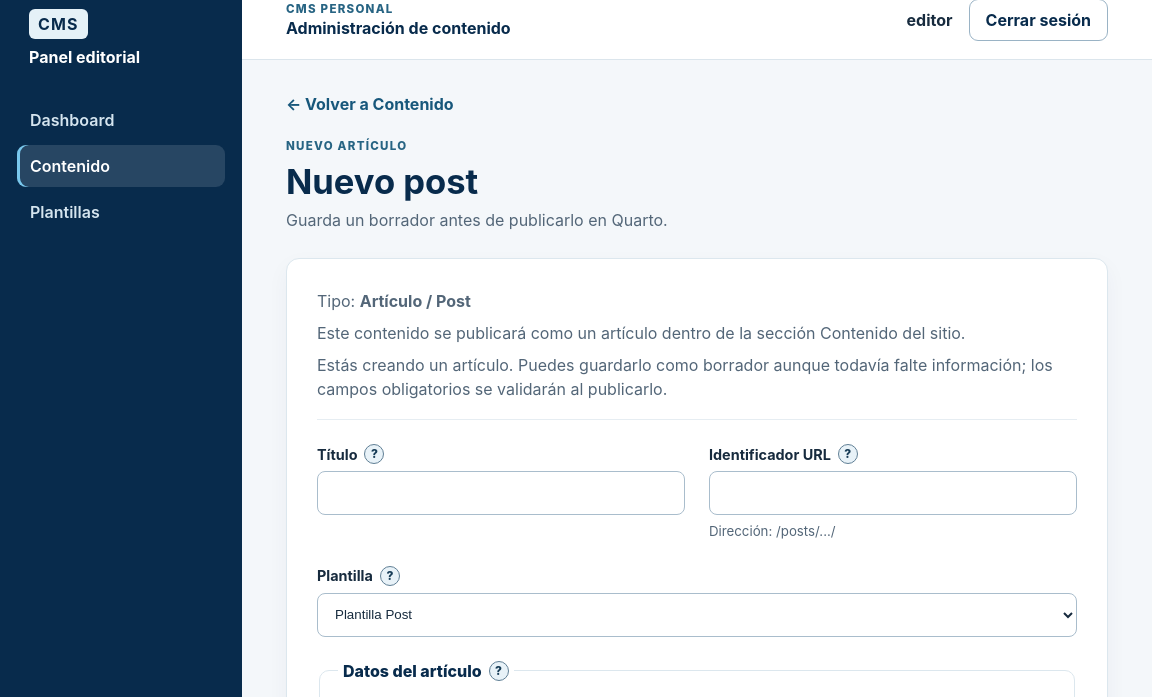
Scenario: Creación y edición › permite guardar borrador sin metadata obligatoria y valida slug inválido
Type "Título" into the field labelled "Título" at (501, 493), box [317,471,685,515]
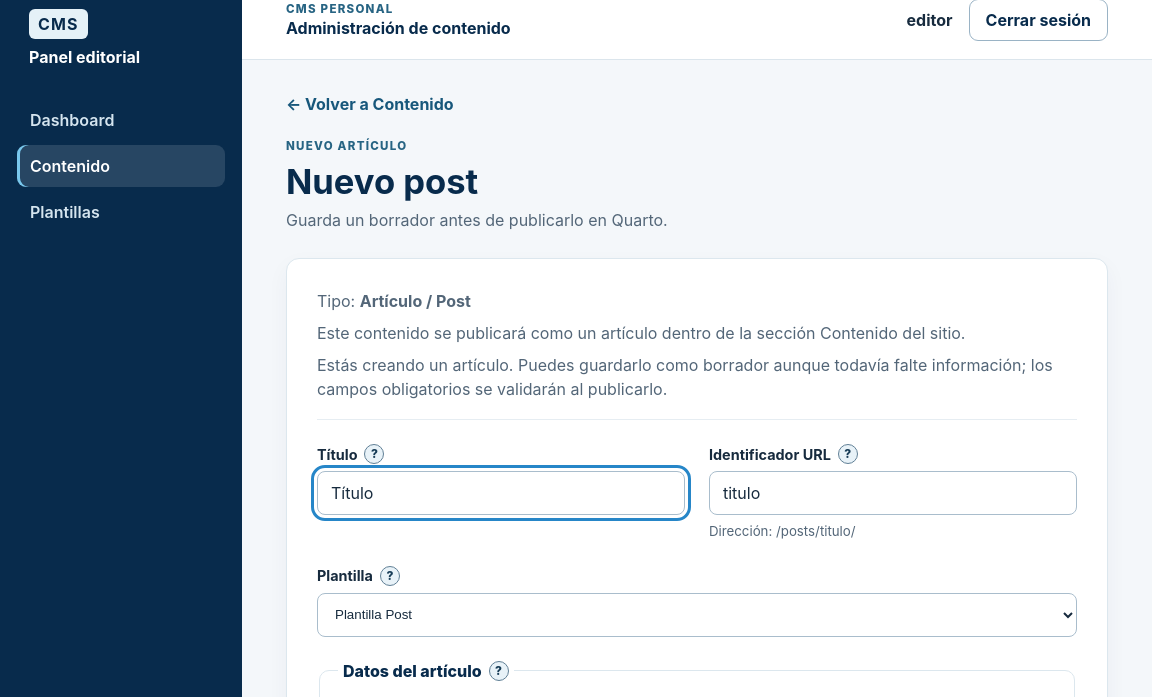
Replace the text in the field labelled "Identificador URL" with "Slug Incorrecto" at (893, 493), box [709,471,1077,515]
(page scrolled)
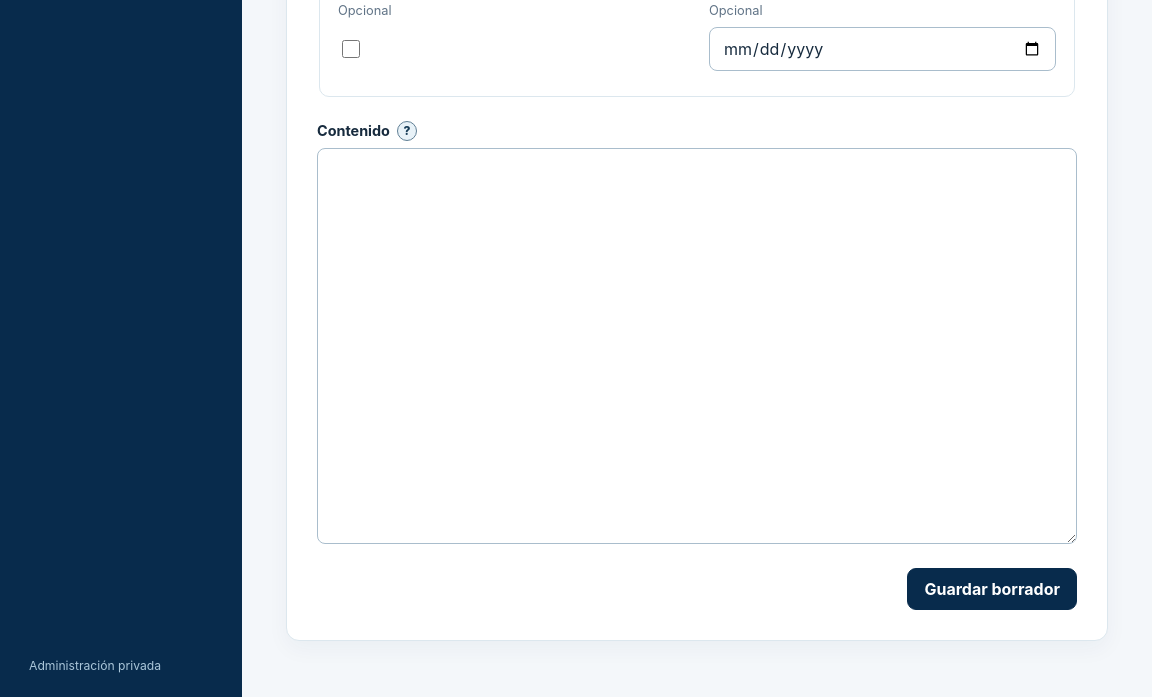
Click the button "Guardar borrador" at (992, 589), box [907,568,1077,610]
(page scrolled)
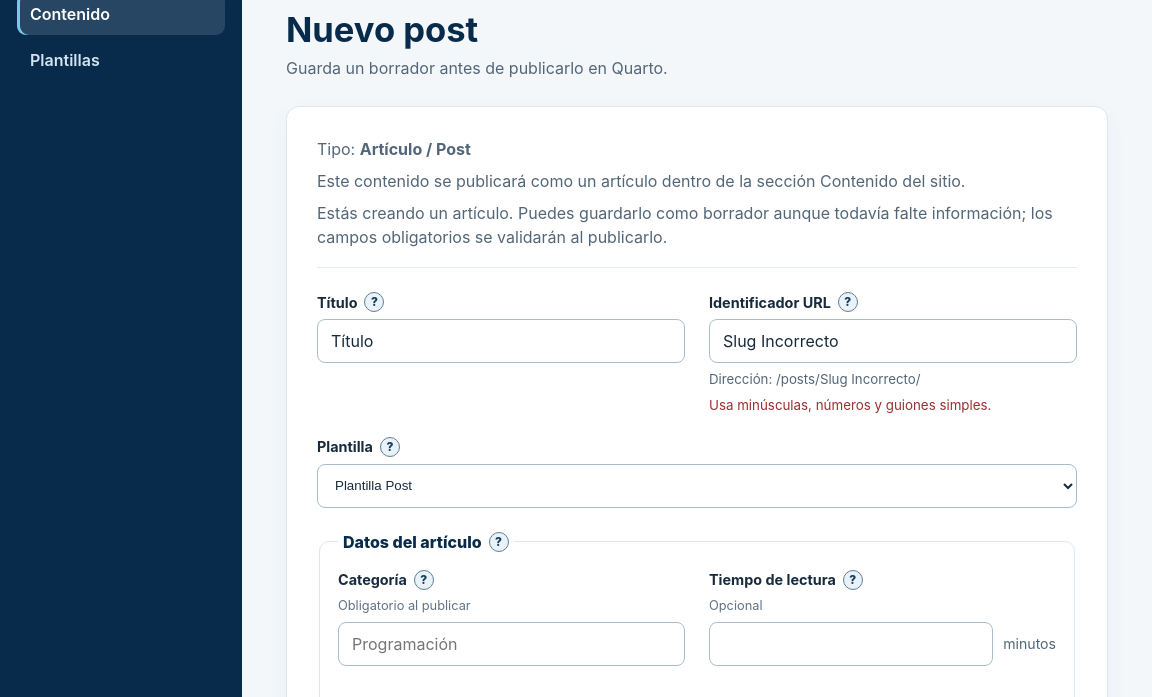
Expected: the text "Usa minúsculas, números y guiones simples." is shown, [709,397,991,413]
Replace the text in the field labelled "Identificador URL" with "slug-valido" at (893, 341), box [709,319,1077,363]
(page scrolled)
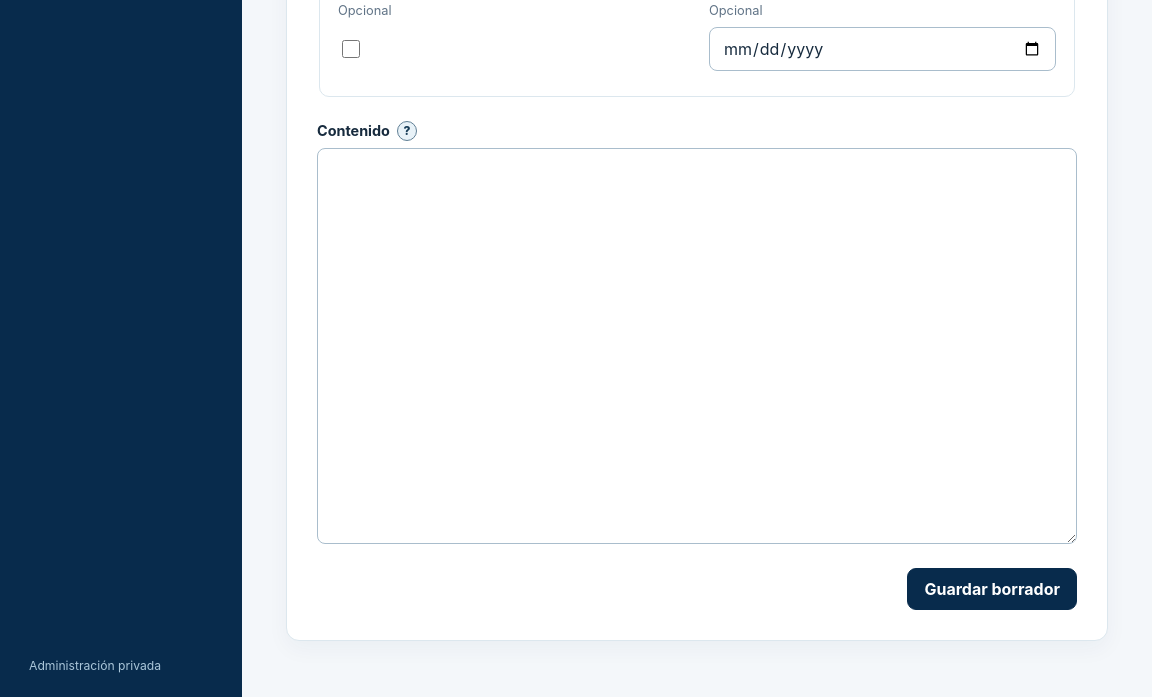
Click the button "Guardar borrador" at (992, 589), box [907,568,1077,610]
(page scrolled)
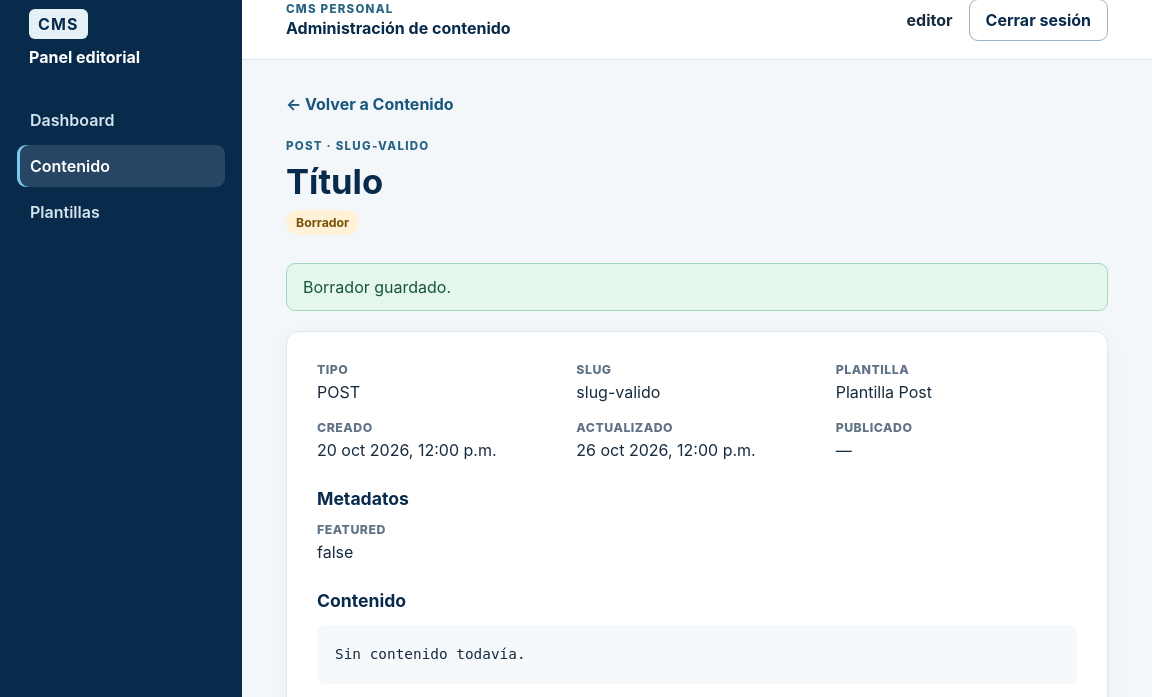
Expected: the text "Borrador guardado." is shown, [286,263,1108,311]
